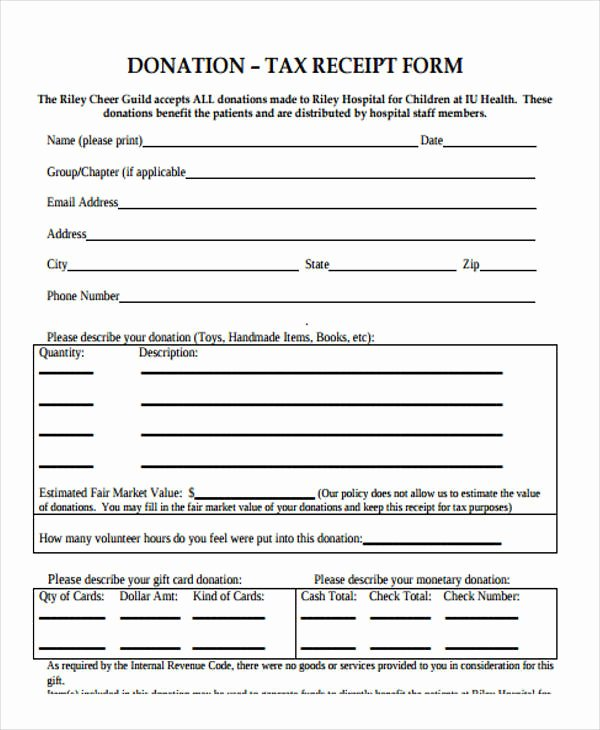textline: (138, 439, 507, 471), (136, 411, 506, 442), (88, 221, 542, 244), (115, 190, 542, 214), (137, 383, 506, 410), (117, 284, 541, 306), (140, 124, 421, 153), (183, 160, 541, 182), (136, 360, 503, 379), (69, 251, 301, 275), (329, 248, 460, 277), (361, 526, 506, 548), (442, 123, 540, 152), (191, 484, 318, 502), (189, 627, 272, 652), (442, 627, 521, 653), (475, 251, 544, 277), (37, 629, 108, 654), (368, 627, 436, 653), (36, 444, 94, 473), (116, 629, 185, 653), (440, 604, 521, 624), (187, 603, 272, 622), (35, 415, 96, 441), (298, 627, 357, 653), (35, 359, 98, 383), (36, 604, 108, 624), (365, 603, 436, 623), (119, 604, 182, 624), (37, 390, 97, 410), (298, 603, 357, 623)
